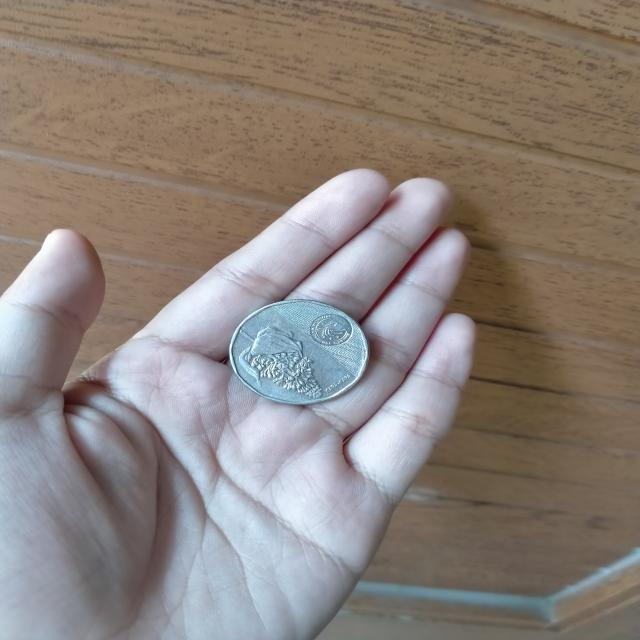10_New_Back: (225, 315, 335, 407)
